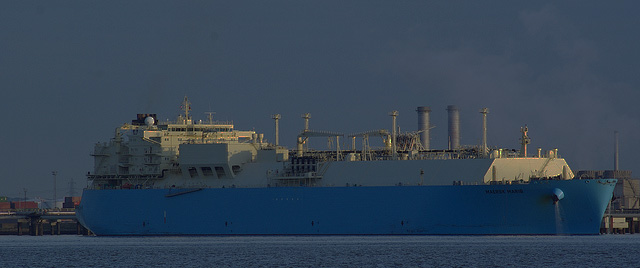LNG_ship: (75, 97, 619, 233)
